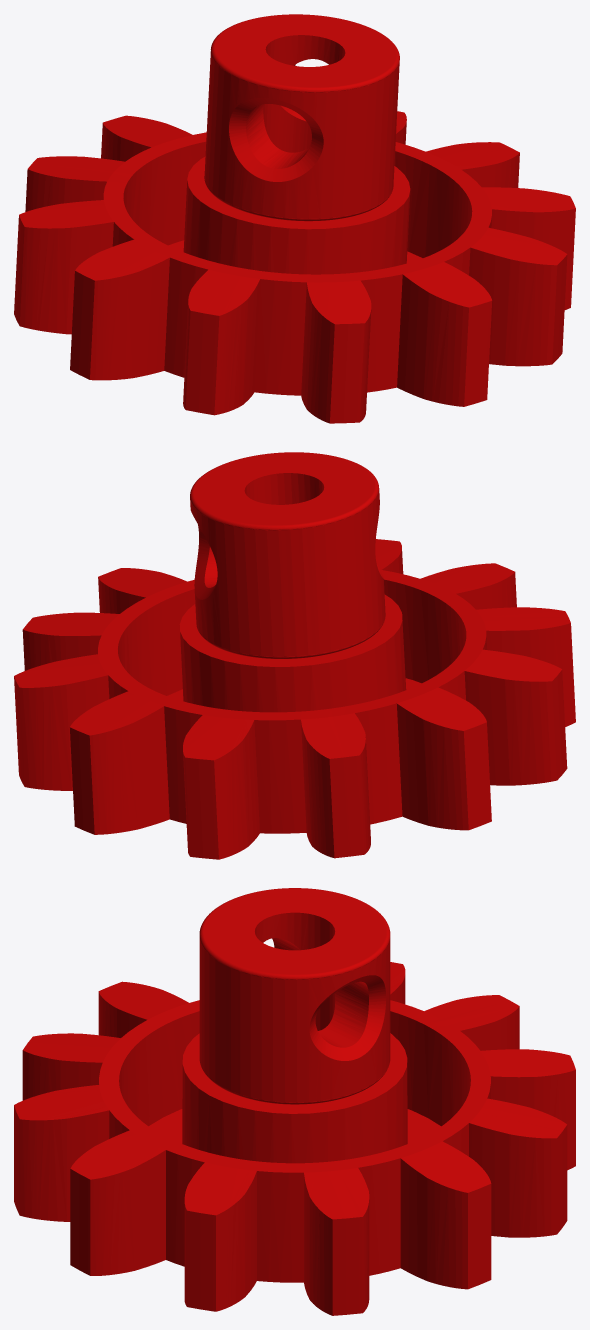
The model's file is Gear_12_Do.glb.
The picture shows the model from 3 angles, top to bottom: view 1: azimuth 30°, elevation 25°; view 2: azimuth 150°, elevation 25°; view 3: azimuth 270°, elevation 25°; orthographic projection.
Visible parts, largest first — view 1: defaultobject; view 2: defaultobject; view 3: defaultobject.
Part boxes in pixels (<box>): defaultobject: <box>14,14,575,423</box>; defaultobject: <box>14,452,575,859</box>; defaultobject: <box>14,888,575,1315</box>.
Size of the model in its own units: 70.22 by 38.2 by 69.6.
